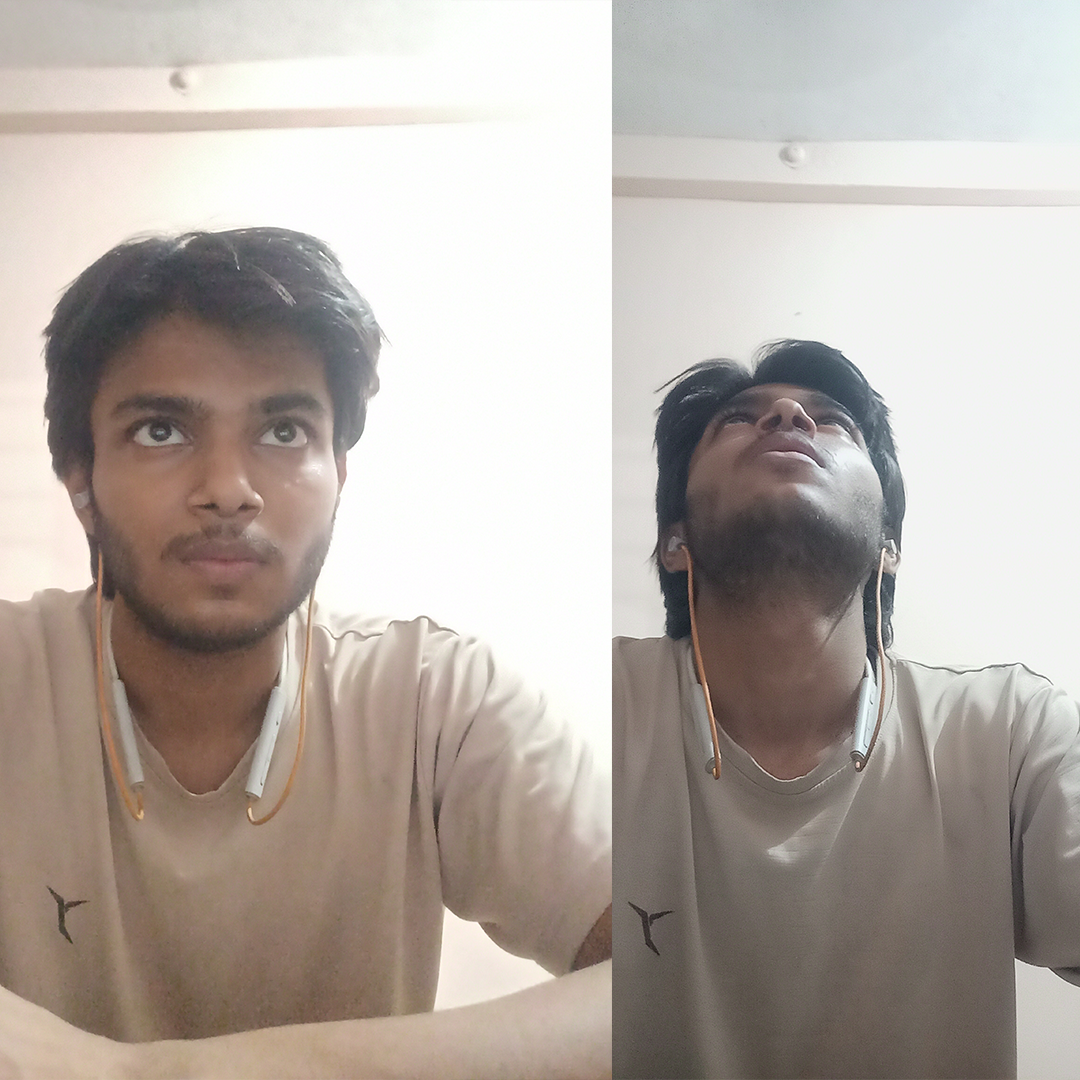Focused: (18, 180, 418, 686)
distracted: (631, 294, 935, 665)
